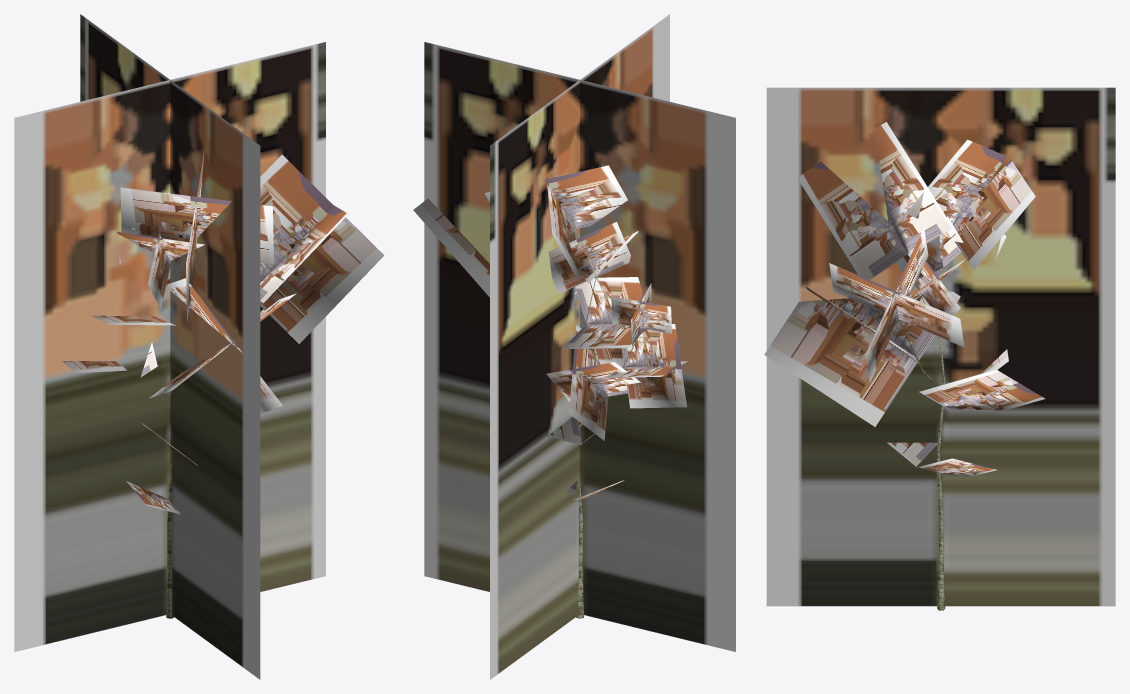
Rendered from Tree-Beech4D.fbx.
The picture shows the model from 3 angles, left to right: view 1: azimuth 30°, elevation 25°; view 2: azimuth 150°, elevation 25°; view 3: azimuth 270°, elevation 25°; orthographic projection. The views are drawn at different scales.
Visible parts, largest first — view 1: Billboard-BeechD, Tree-Beech4D_LOD0; view 2: Billboard-BeechD, Tree-Beech4D_LOD0; view 3: Billboard-BeechD, Tree-Beech4D_LOD0.
Boxes of the visible parts, x1=… form: Billboard-BeechD: x1=14, y1=14, x2=325, y2=679; Tree-Beech4D_LOD0: x1=62, y1=148, x2=384, y2=618; Billboard-BeechD: x1=424, y1=14, x2=735, y2=679; Tree-Beech4D_LOD0: x1=413, y1=165, x2=688, y2=618; Billboard-BeechD: x1=766, y1=87, x2=1115, y2=606; Tree-Beech4D_LOD0: x1=764, y1=122, x2=1045, y2=610.
Size of what is drawn, in the model's own units: 718 by 1114 by 681.
